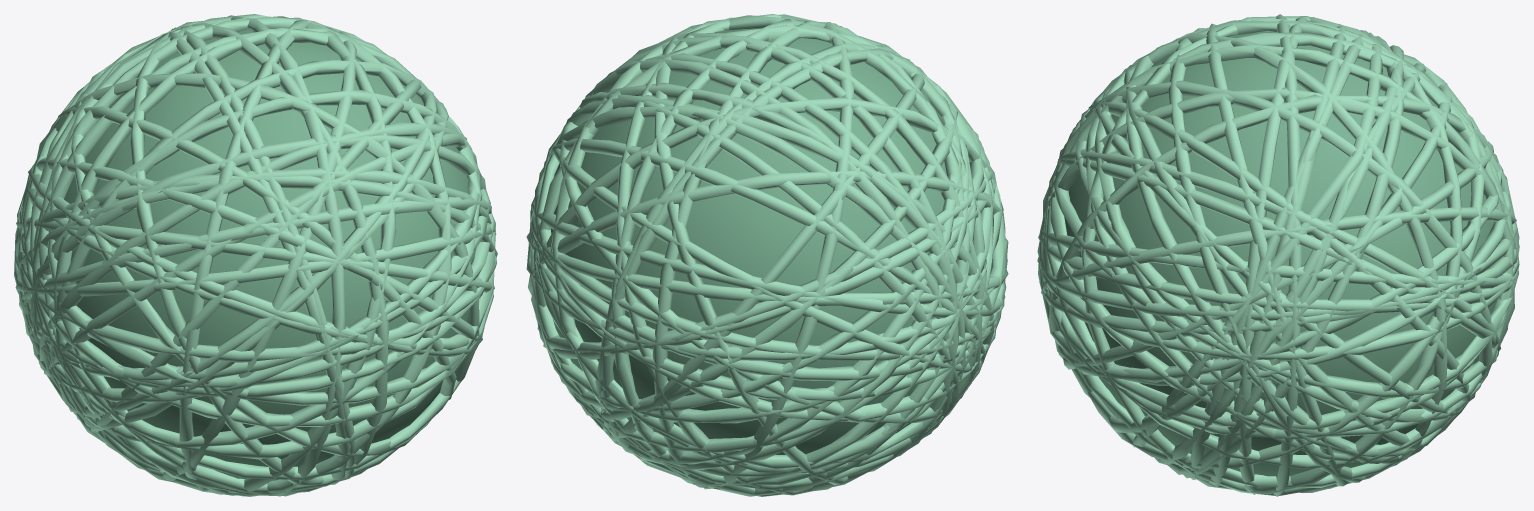
The model's file is yarnBall.fbx.
The picture shows the model from 3 angles, left to right: view 1: azimuth 30°, elevation 25°; view 2: azimuth 150°, elevation 25°; view 3: azimuth 270°, elevation 25°; orthographic projection.
Visible parts, largest first — view 1: BezierCircle.045; view 2: BezierCircle.045; view 3: BezierCircle.045.
Part boxes in pixels (x1,y1,x2,y2): BezierCircle.045: [14, 14, 497, 496]; BezierCircle.045: [526, 14, 1008, 496]; BezierCircle.045: [1037, 14, 1519, 496].
Bounding box in the file's own units: 206 × 206 × 206.
